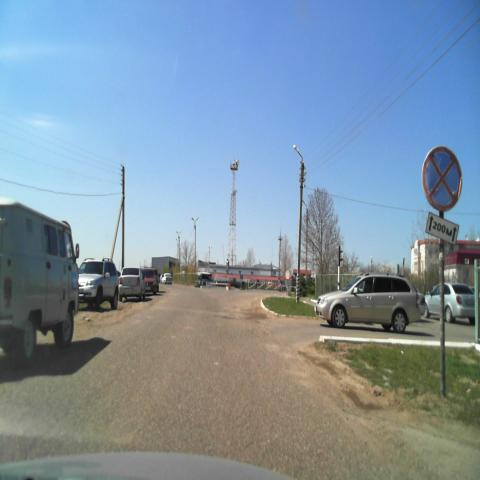3_27: (420, 144, 462, 213)
